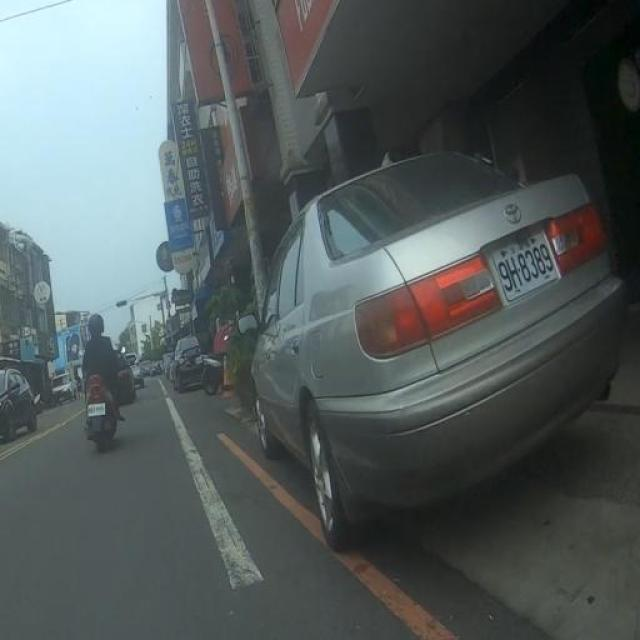illegalparking: (227, 125, 635, 553)
